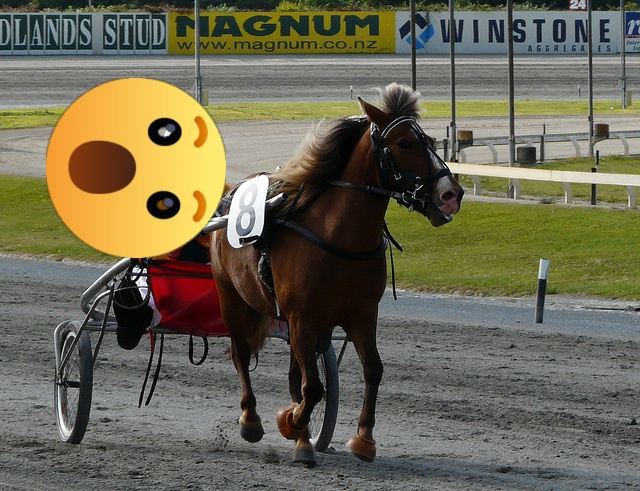wow: (46, 78, 226, 258)
